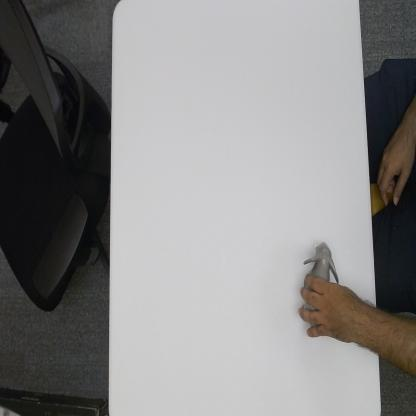Arm: (362, 298, 378, 355)
Elephant: (302, 241, 339, 313)
Hand: (298, 272, 358, 345)
